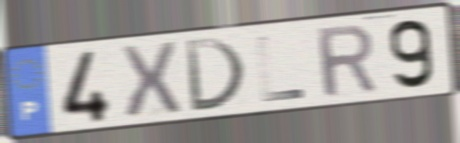4: (60, 47, 115, 126)
9: (387, 17, 436, 90)
D: (182, 36, 249, 114)
L: (254, 34, 308, 105)
R: (313, 21, 381, 101)
X: (117, 39, 185, 123)
